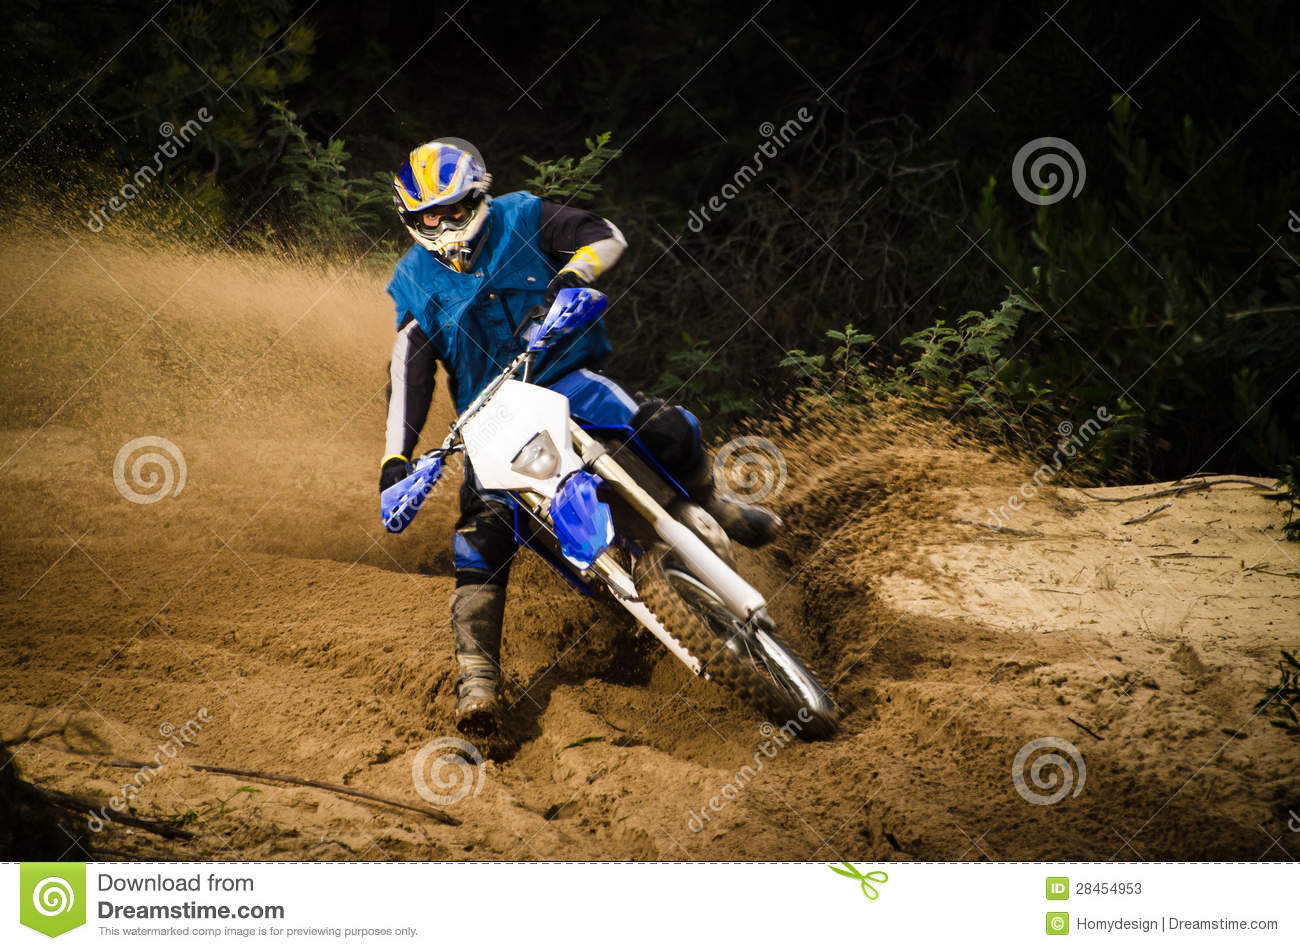helmet: (383, 138, 506, 265)
